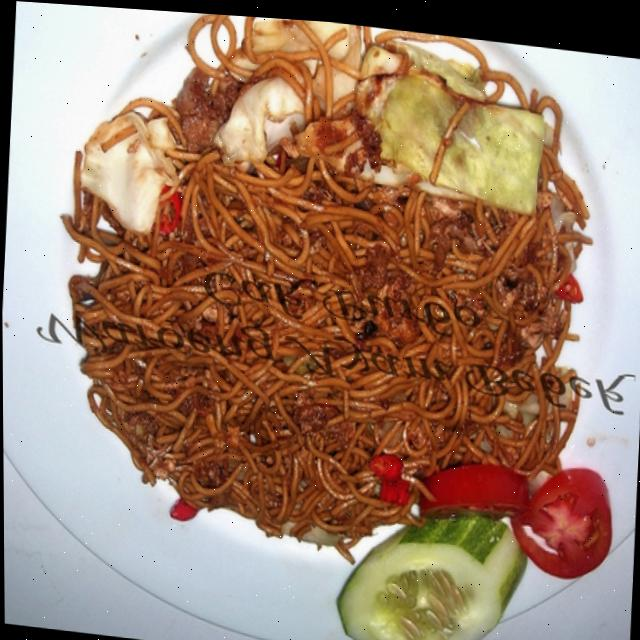面条主食: (3, 0, 640, 640)
